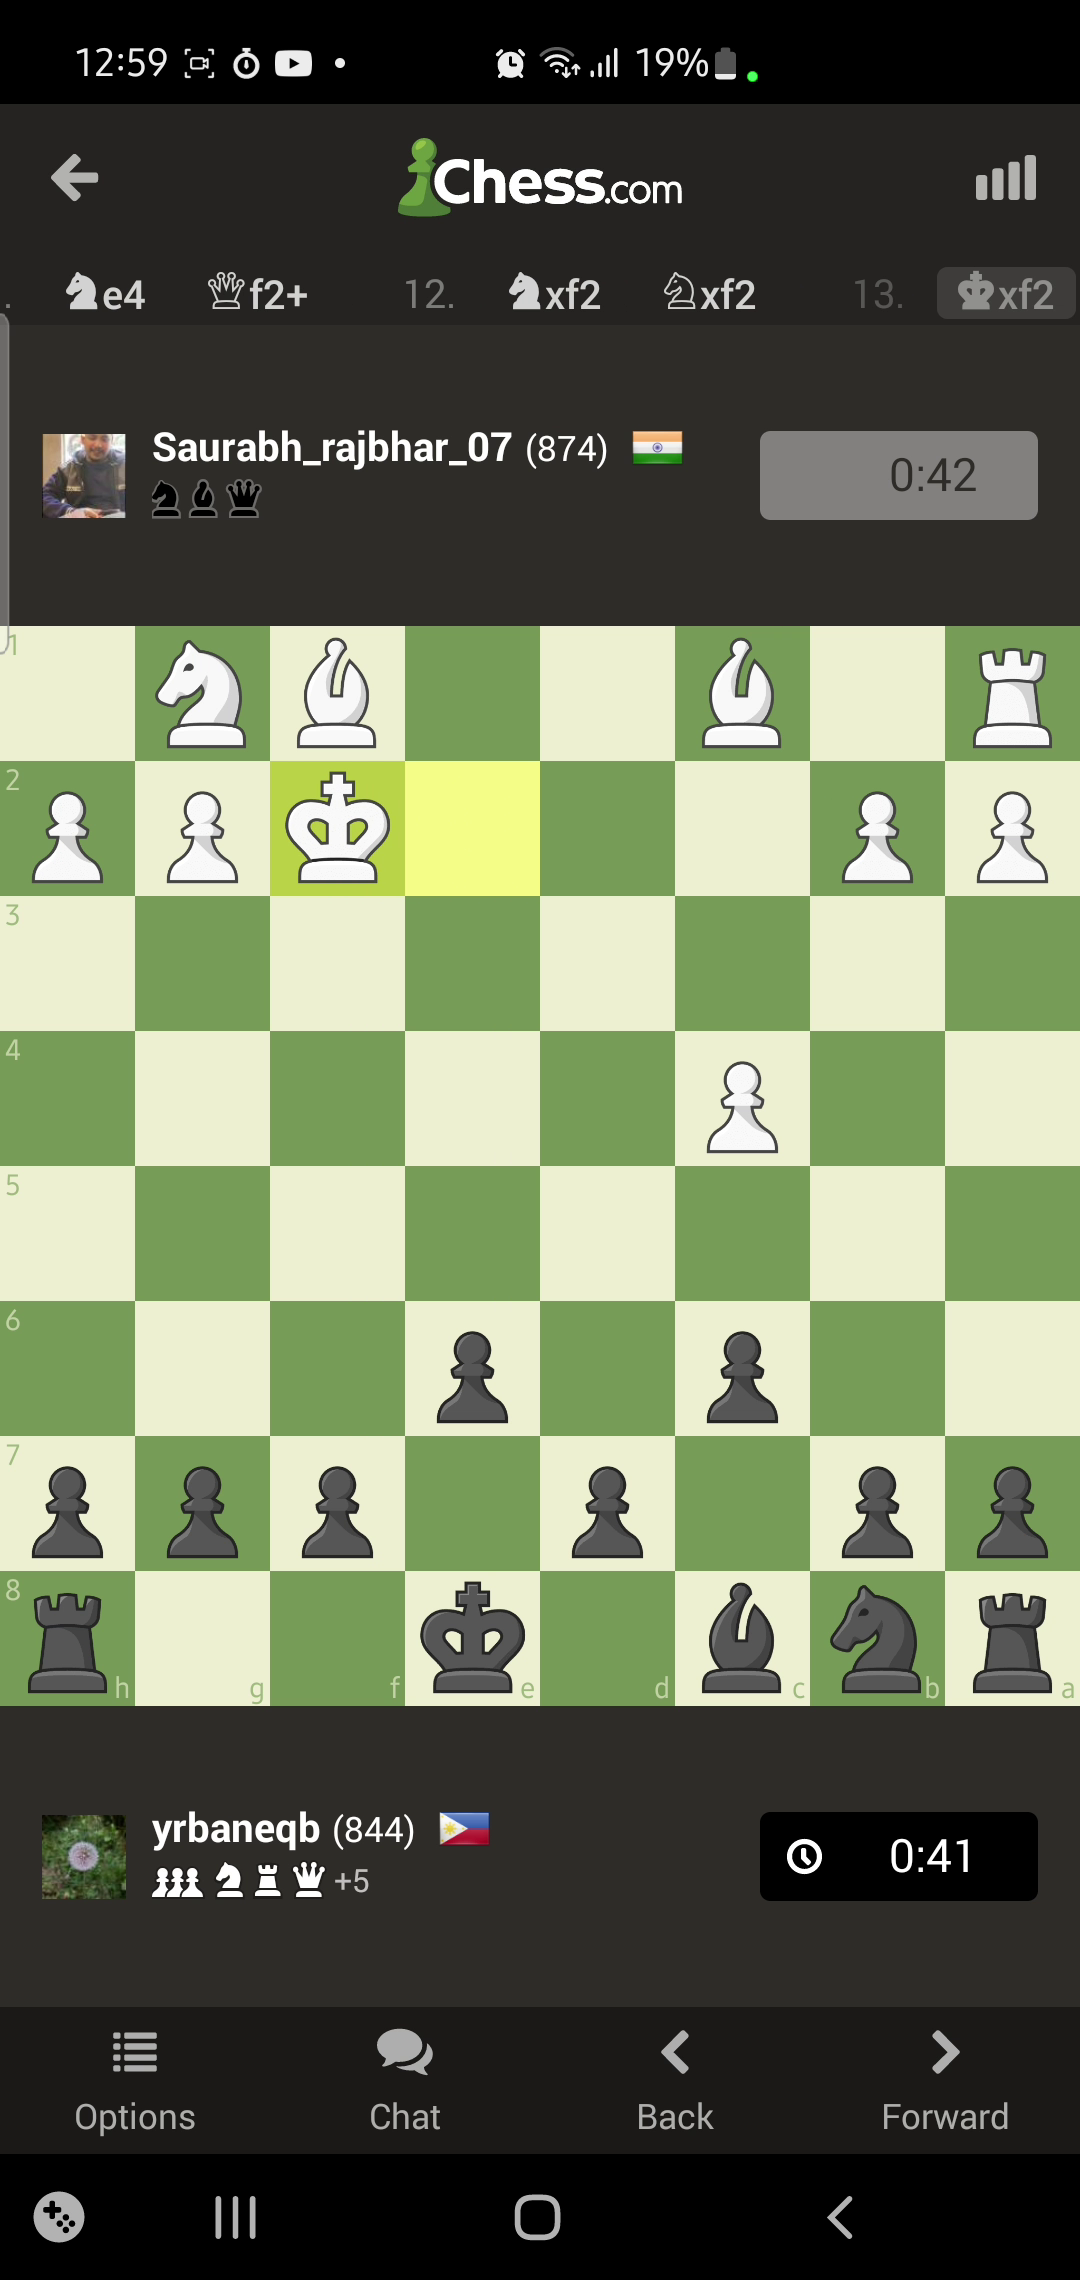king: (285, 771, 394, 886), (420, 1581, 528, 1690)
